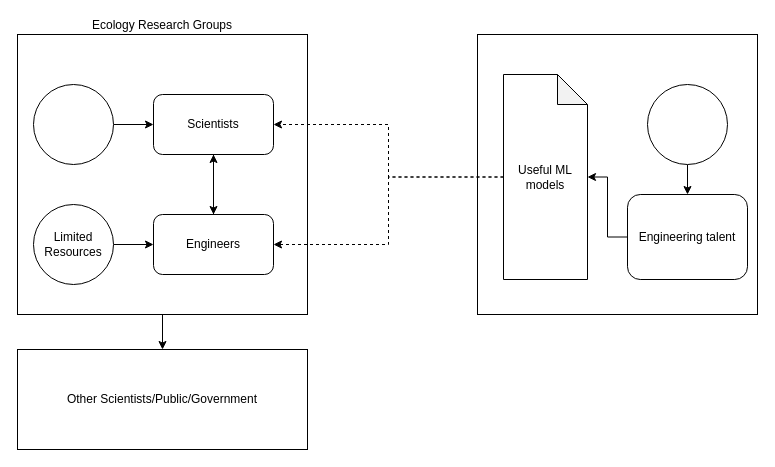
Some shapes in this 775 by 467 pixel diagram are drawn without their labels. The box of each missing label's shape, as (x1, y1, x2, y2) in pixels:
Compute Resources: (646, 84, 728, 164)
Environmental Data: (32, 84, 114, 164)
Technology Companies: (476, 34, 758, 314)
